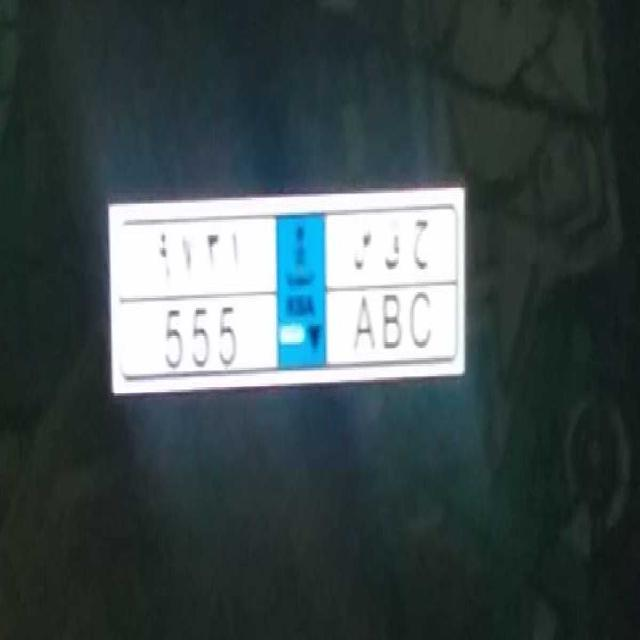license_plate: (134, 283, 447, 383)
